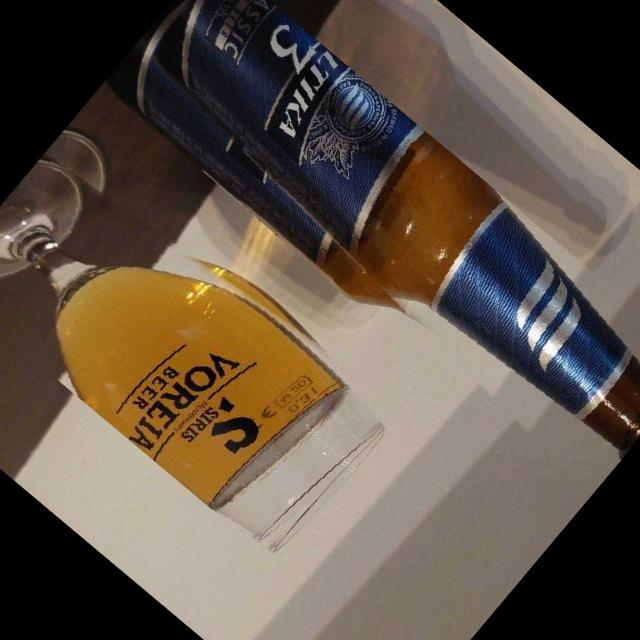Glass: (99, 0, 640, 496), (0, 122, 408, 564)
